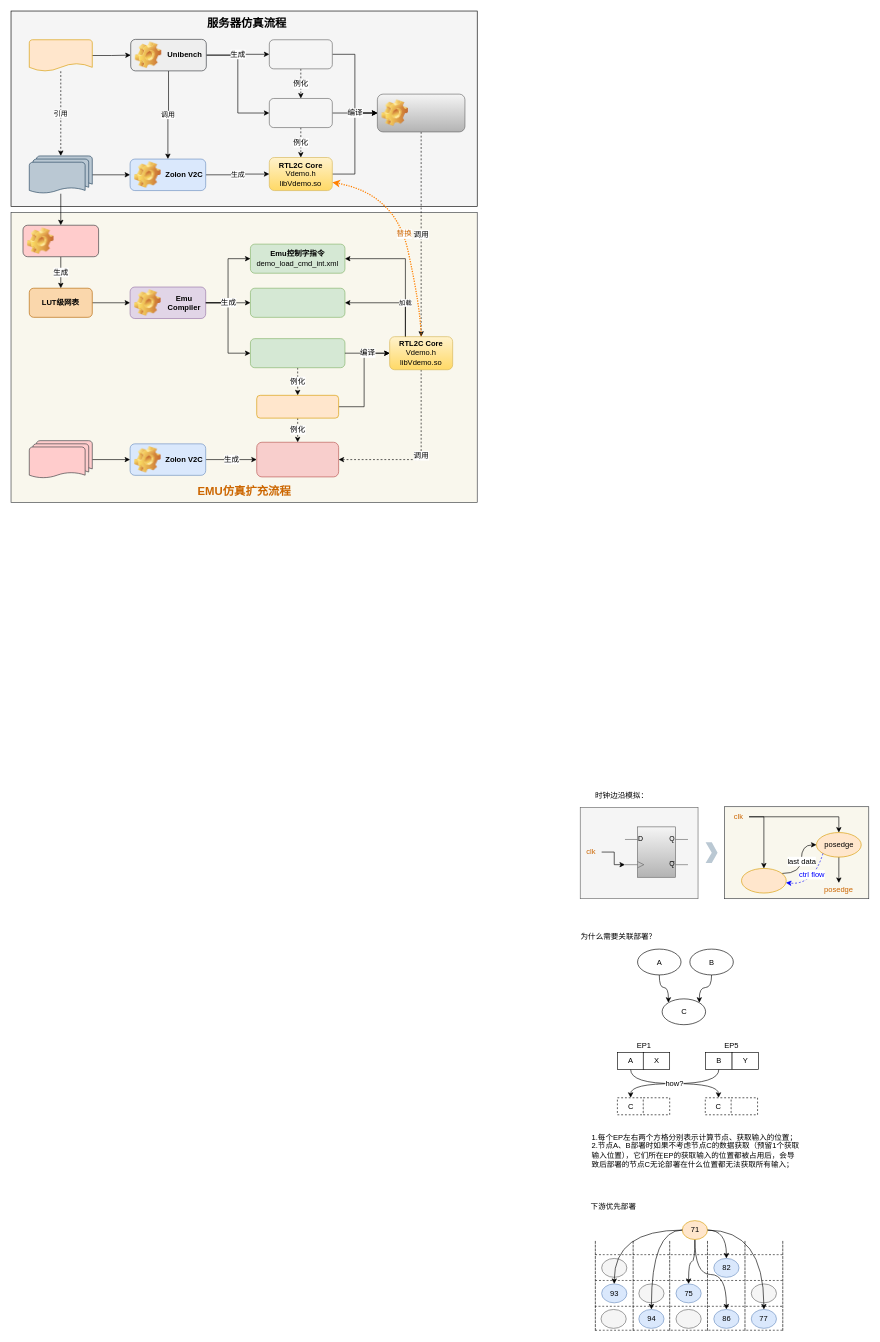
The diagram is 880 pixels wide and 1342 high, and some of its shapes have lost their labels. Each missing label, with the box of its shape:
backup: (741, 868, 786, 893)
CA model ca_top.h/cpp ca_core.h/cpp: (269, 98, 332, 128)
demo rtl src: (29, 155, 92, 194)
demo.uni.proj: (29, 39, 92, 71)
Emu Module Core Vmodule_top.h libVmodule_top.so: (256, 442, 339, 477)
EMU rtl src: (29, 440, 92, 478)
inst src emu_mod_inst.h/cpp: (256, 395, 339, 418)
lite环境 lite_main.cpp lite_platform.h/cpp: (269, 39, 332, 69)
router_top.exe: (377, 93, 465, 132)
sc_top Vdemo.h/cpp Vdemo_trace.cpp: (250, 338, 345, 368)
Yosys&abc: (22, 225, 99, 257)
信号的EpStep映射 demo_trace_signals.xml: (250, 288, 345, 317)
